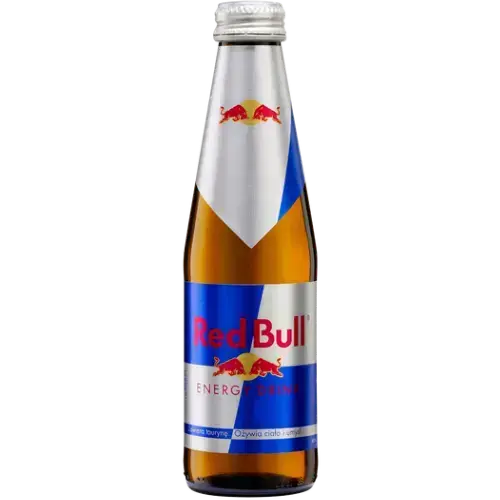glass_bottle: (176, 1, 330, 499)
